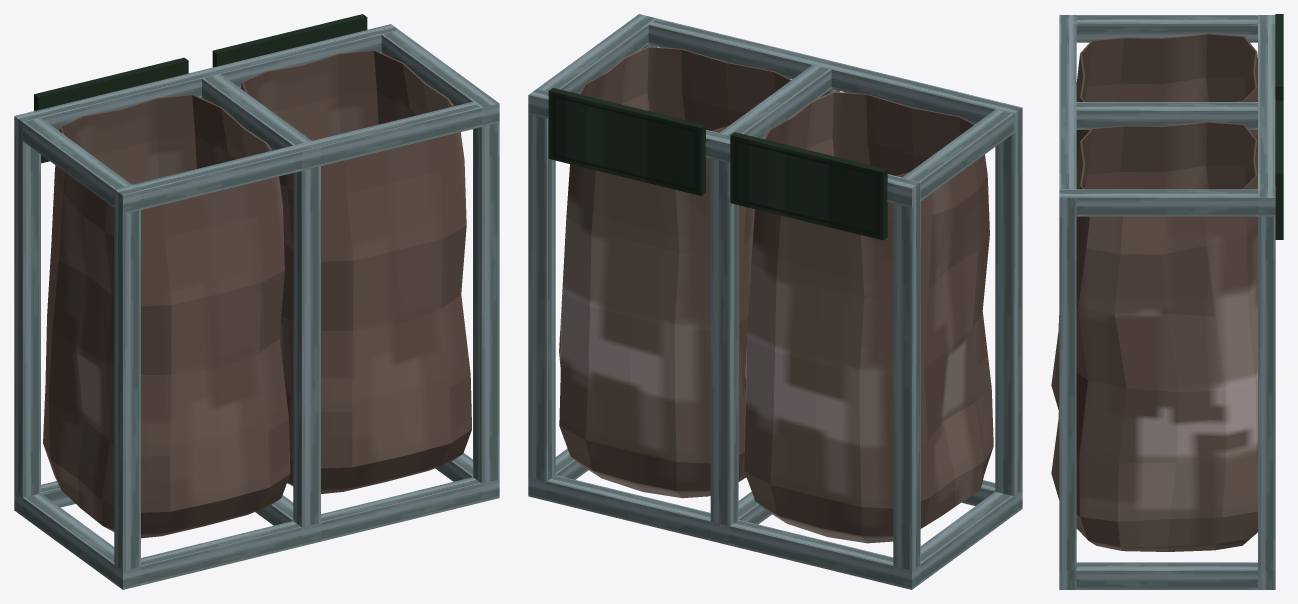
The model's file is Separate recycling.fbx.
3 views of the same model, side by side, from view 1: azimuth 30°, elevation 25°; view 2: azimuth 150°, elevation 25°; view 3: azimuth 270°, elevation 25° (orthographic). The views are drawn at different scales.
Parts seen in each view (by area): view 1: Cube, Frame, signboard.001, signboard; view 2: Cube, Frame, signboard.001, signboard; view 3: Cube, Frame, signboard, signboard.001.
Boxes of the visible parts, box(x1,y1,x2,y2) form: Cube: box(43, 50, 471, 538); Frame: box(14, 24, 499, 589); signboard.001: box(34, 57, 188, 163); signboard: box(212, 14, 367, 67); Cube: box(559, 46, 993, 543); Frame: box(528, 14, 1022, 589); signboard.001: box(730, 132, 887, 240); signboard: box(548, 88, 705, 195); Cube: box(1051, 33, 1257, 551); Frame: box(1059, 15, 1275, 589); signboard: box(1275, 100, 1283, 239); signboard.001: box(1275, 14, 1283, 100).
Size of the model in its own units: 200 by 207 by 107.
Materials: 1 (1 with a texture image).
